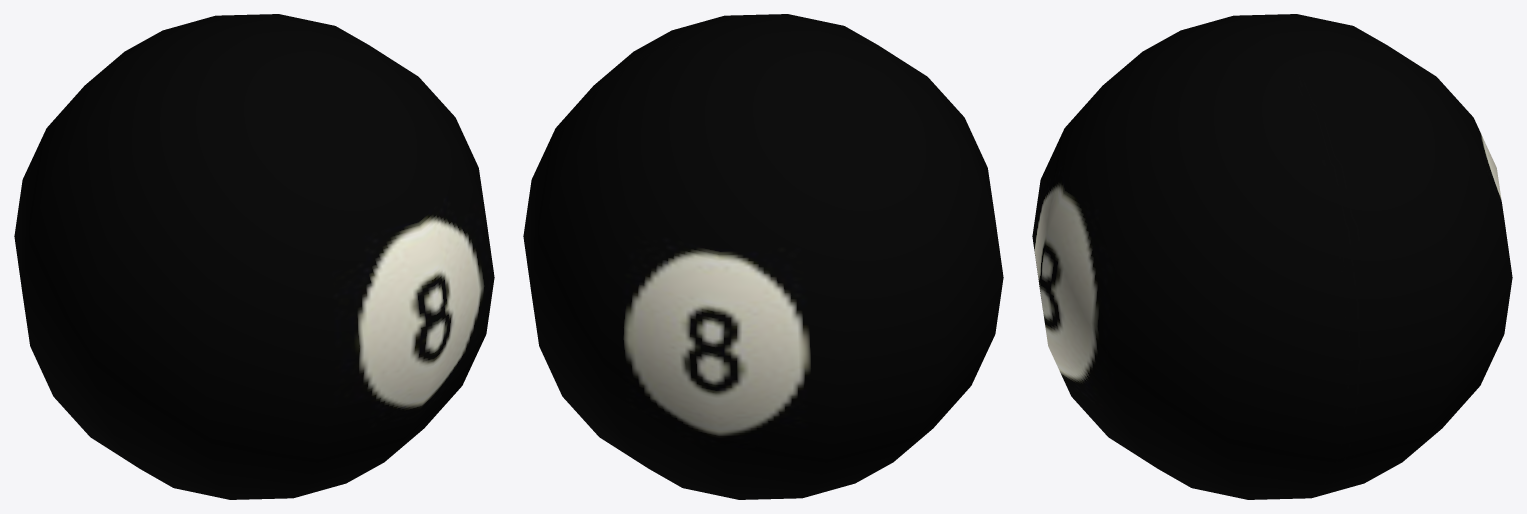
The model's file is ball_bilyard.fbx.
3 renders of one model, left to right at view 1: azimuth 30°, elevation 25°; view 2: azimuth 150°, elevation 25°; view 3: azimuth 270°, elevation 25°, orthographic.
Parts seen in each view (by area): view 1: ball_bilyard; view 2: ball_bilyard; view 3: ball_bilyard.
Part boxes in pixels (left/top/right/bottom): ball_bilyard: left=14, top=14, right=494, bottom=499; ball_bilyard: left=523, top=14, right=1003, bottom=499; ball_bilyard: left=1032, top=14, right=1512, bottom=499.
Bounding box in the file's own units: 2.94 × 3 × 2.94.
